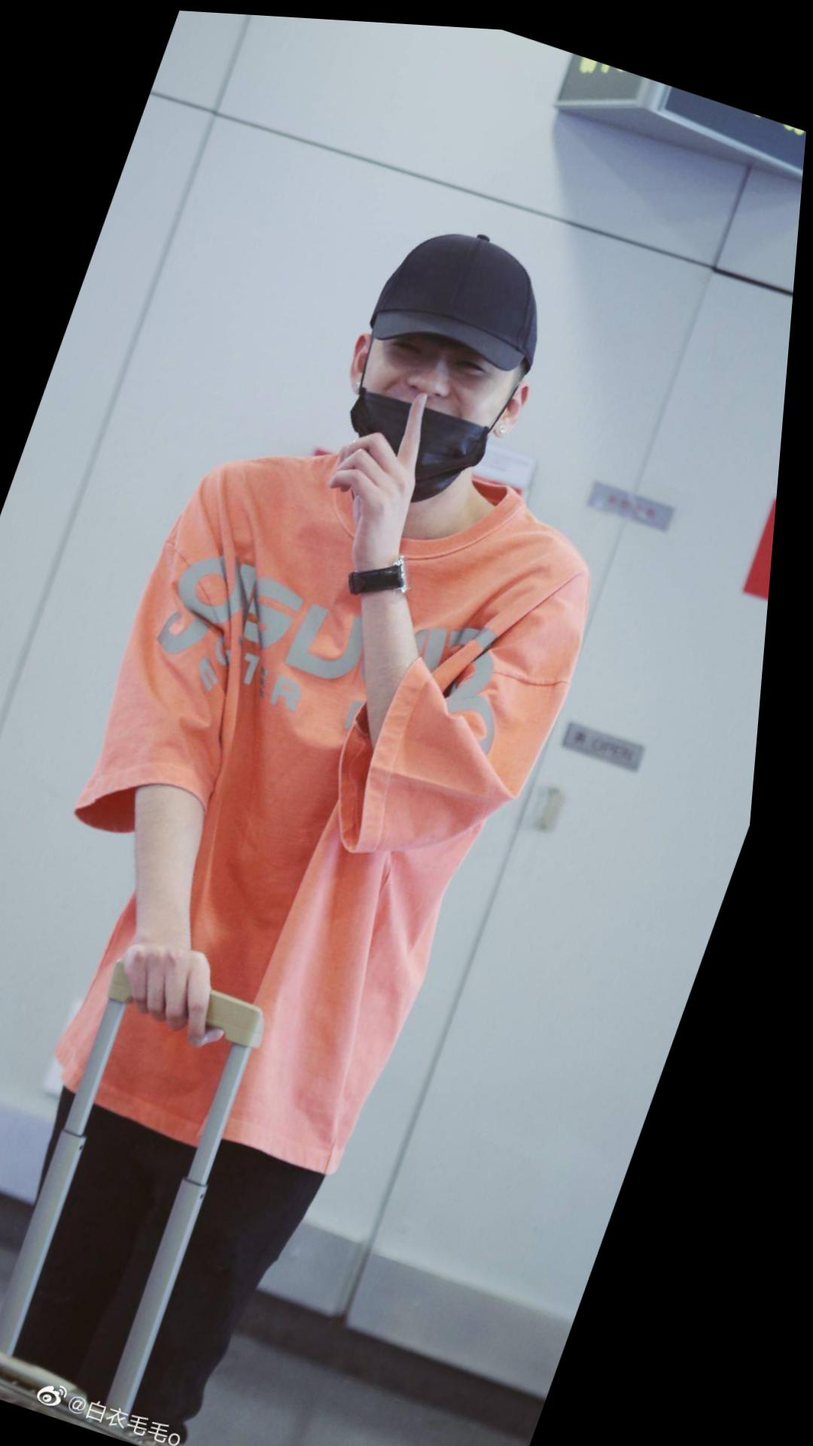WRONG: (333, 289, 533, 517)
